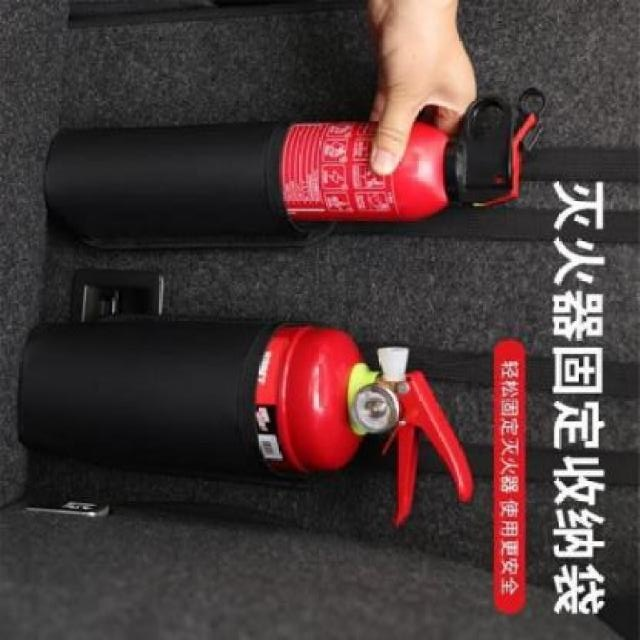fire extinguisher: (258, 325, 473, 526)
